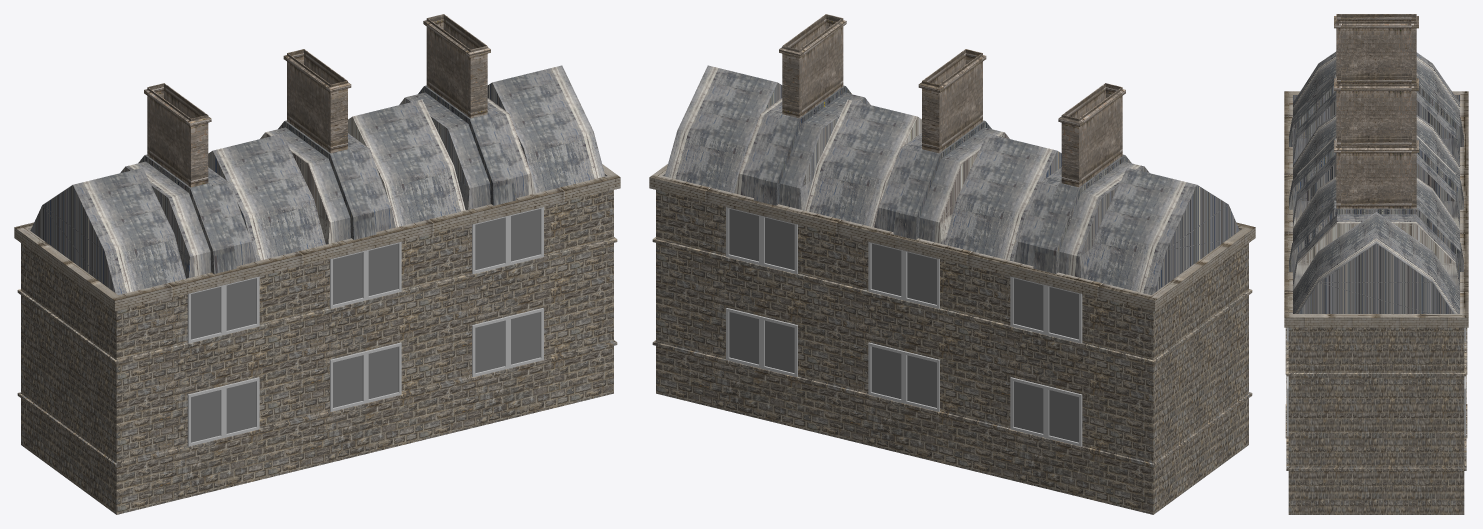
File: Appartment.fbx
The picture shows the model from 3 angles, left to right: view 1: azimuth 30°, elevation 25°; view 2: azimuth 150°, elevation 25°; view 3: azimuth 270°, elevation 25°; orthographic projection. The views are drawn at different scales.
Parts seen in each view (by area): view 1: Appartment; view 2: Appartment; view 3: Appartment.
Part boxes in pixels (x1,y1,x2,y2): Appartment: [14, 14, 620, 514]; Appartment: [649, 14, 1255, 514]; Appartment: [1284, 14, 1468, 514].
Size of the model in its own units: 122 by 81.35 by 42.
